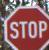Stop sign: (0, 0, 48, 49)
